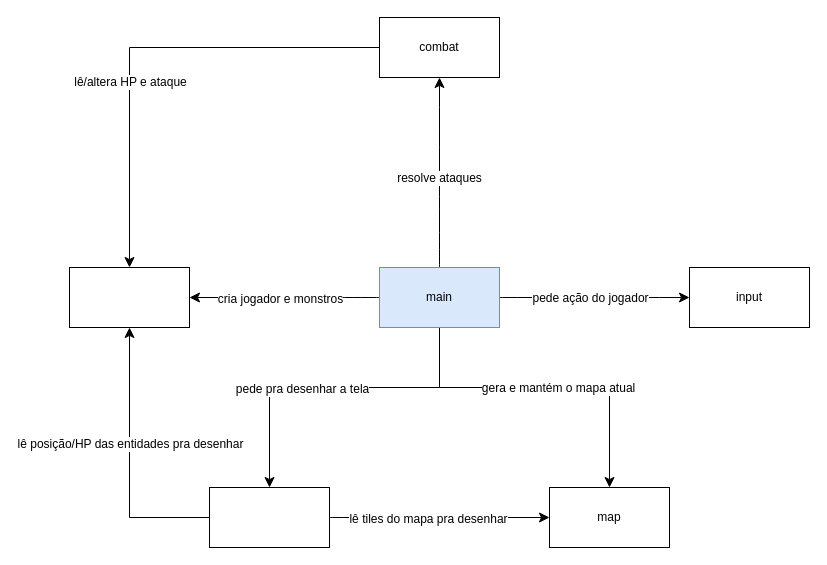
This 827x565 diagram has some shape labels left out. The shapes that lost their labels are listed below. From the top down, each one's centre as x and y in pixels, then its label:
At (129,297): "entities".
At (269,517): "render".
